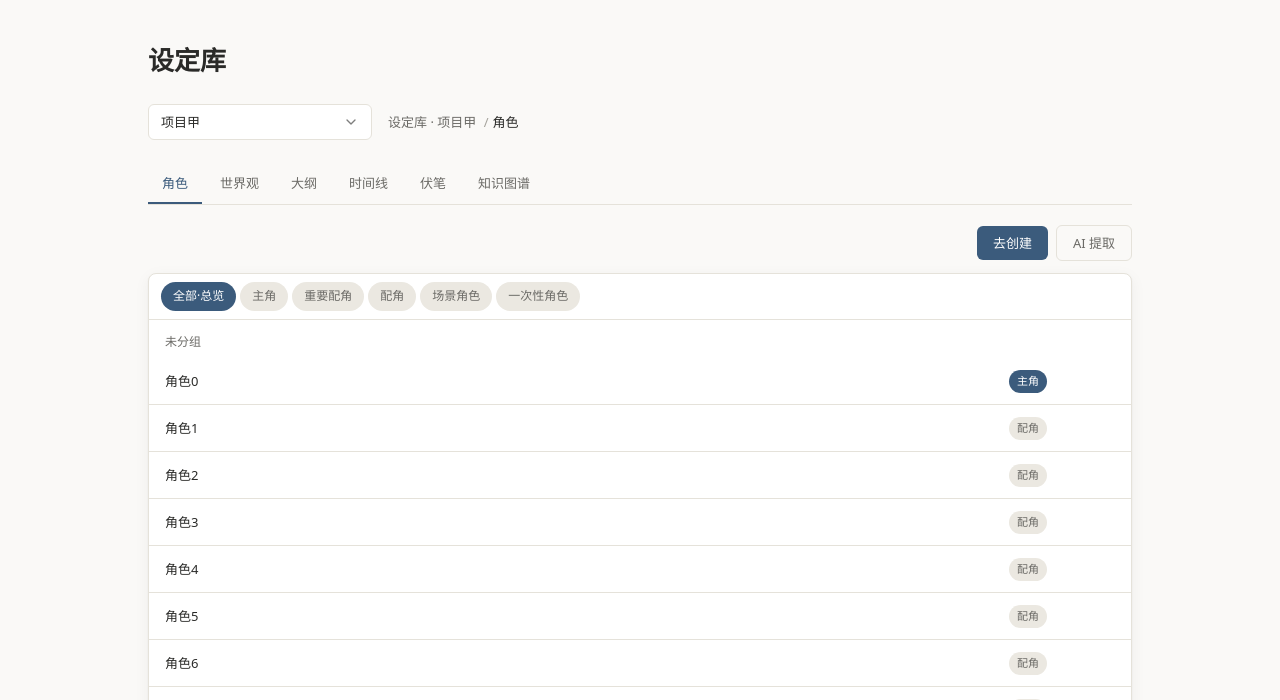
it: #1320 角色等级筛选 × 分页 total 一致性 › 筛选后 total 与页码正确：主角 3 人 → 「第 1 / 1 页 · 共 3 条」（非 52 / 2 页）
Click the button with test id "character-rank-tab-protagonist": (264, 297) [240,282,288,311]
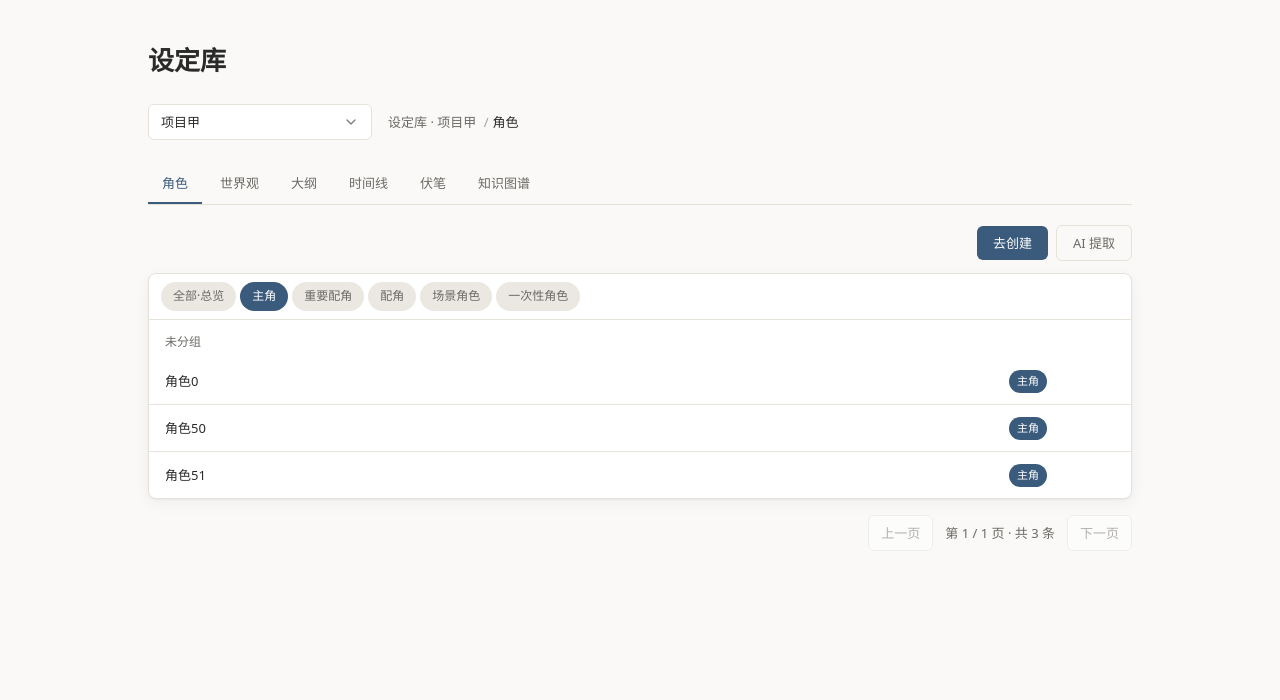
Expected: the text with test id "library-page-info" reads "第 1 / 1 页 · 共 3 条", [945,524,1055,542]
